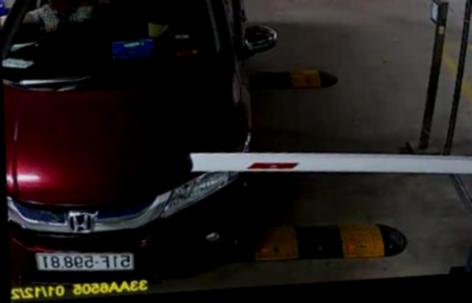License_Plate: (26, 246, 138, 279)
